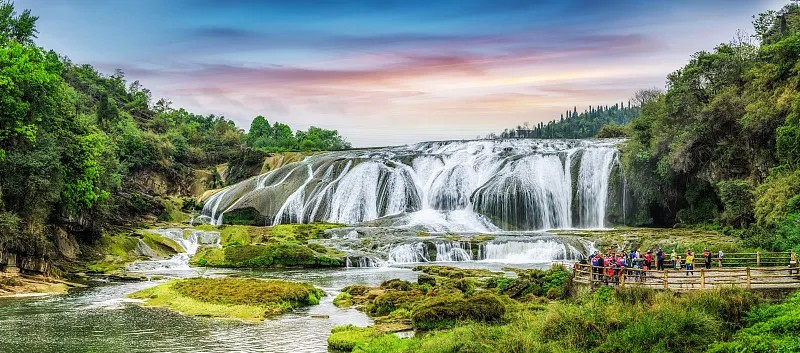Huangguoshu: (206, 138, 627, 231)
